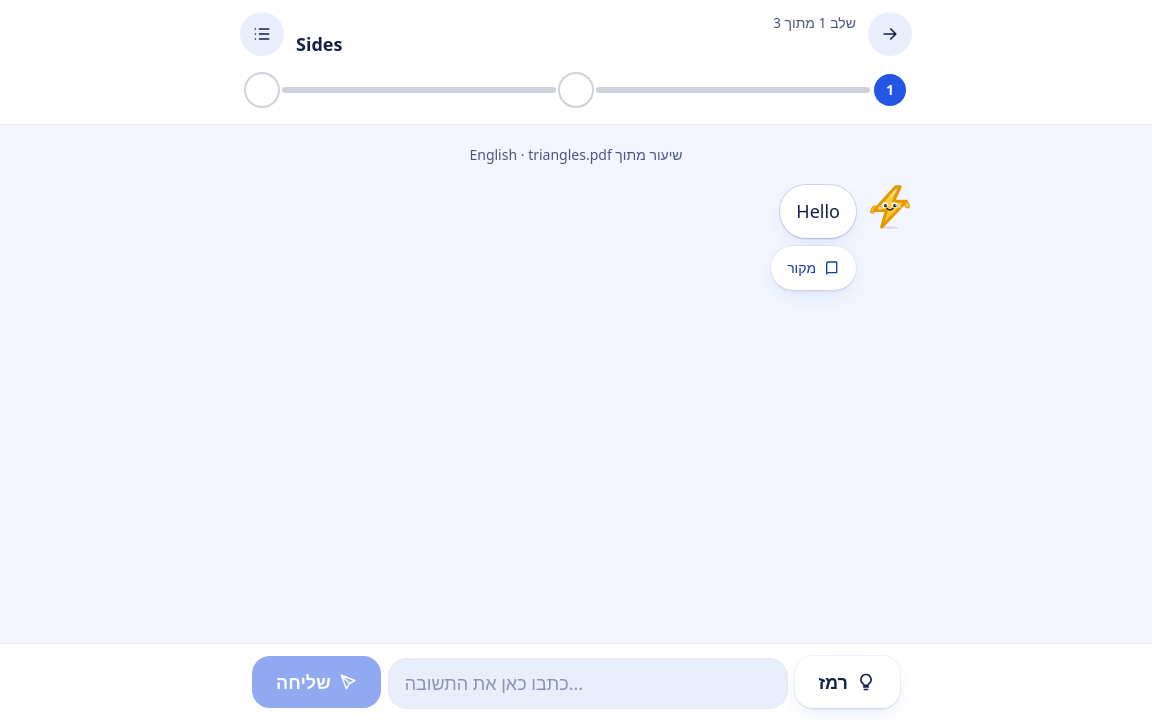
Test: motion › with reduced motion there is no confetti and the badge does not pop
Check: the text "Hello" is shown, box [796,197,840,226]
Step 1. Type "three" into the text box named "התשובה שלכם" → (588, 684), box [389,659,786,708]
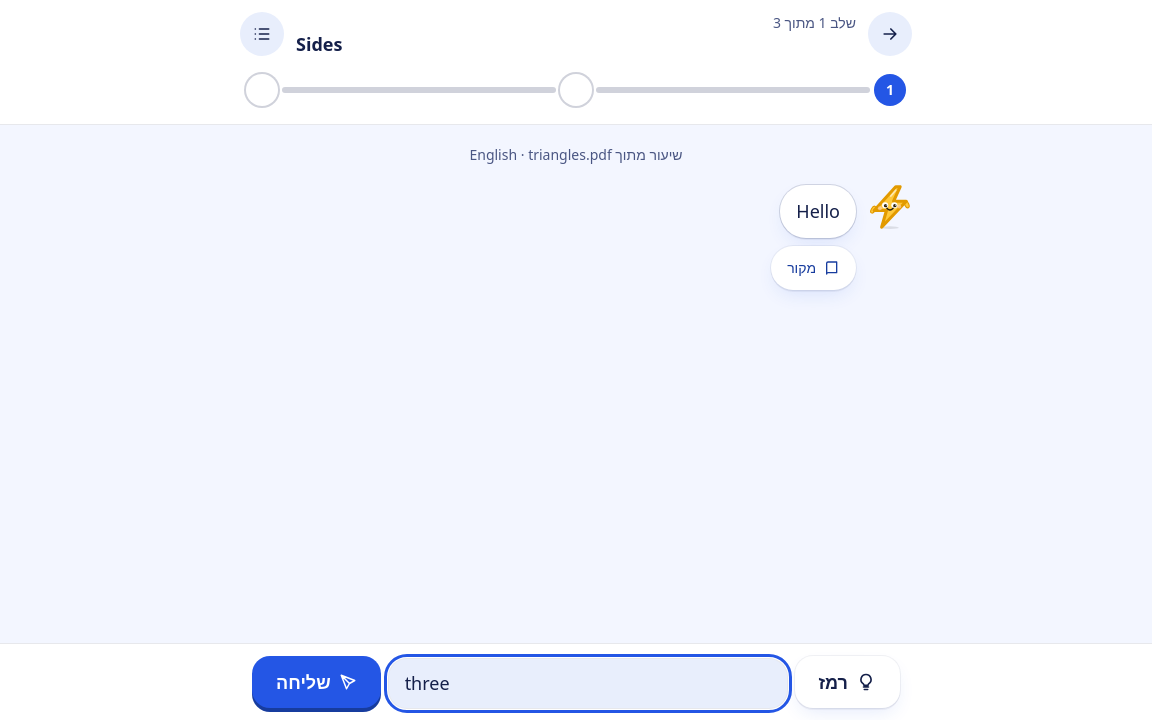
Step 2. Click the button "שליחה" → (316, 682), box [252,656,381,708]
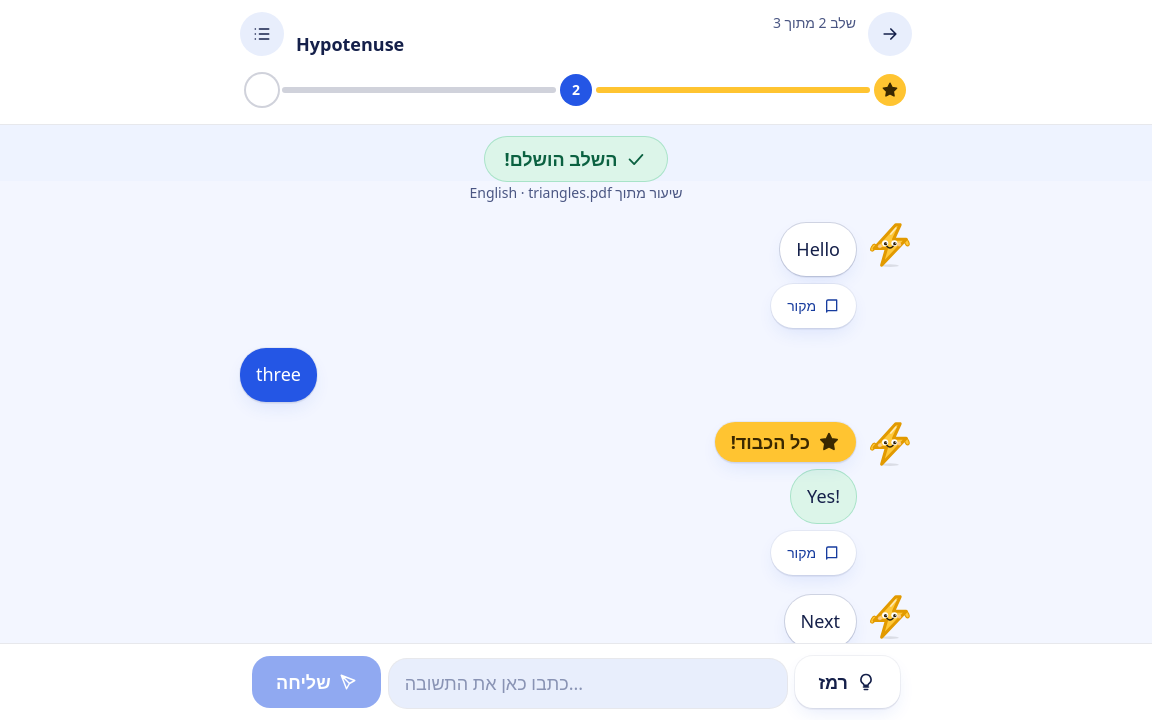
Check: the text "Yes!" is shown, box [807,482,840,511]
